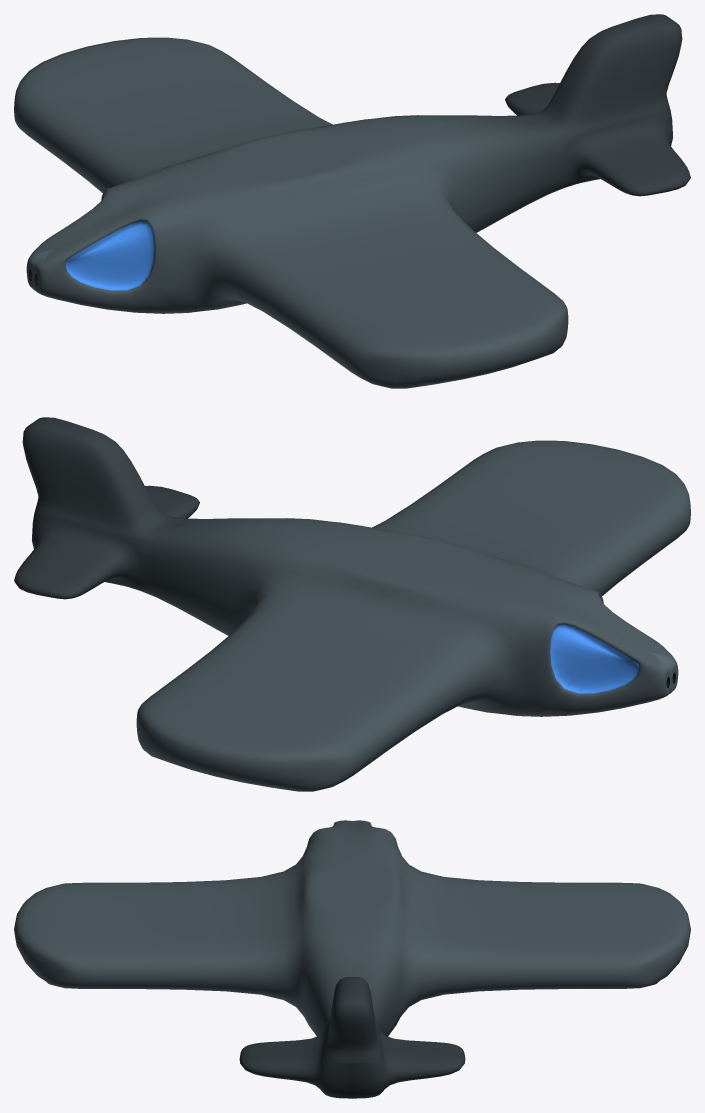
File: planeanimal.glb
The picture shows the model from 3 angles, top to bottom: view 1: azimuth 30°, elevation 25°; view 2: azimuth 150°, elevation 25°; view 3: azimuth 270°, elevation 25°; orthographic projection. The views are drawn at different scales.
Parts seen in each view (by area): view 1: Cube.012; view 2: Cube.012; view 3: Cube.012.
Part boxes in pixels (x1,y1,x2,y2): Cube.012: (14, 14, 690, 388); Cube.012: (14, 417, 690, 791); Cube.012: (14, 820, 690, 1098).
Bounding box in the file's own units: 6.19 × 1.52 × 6.89.
Materials: 1 (1 with a texture image).
